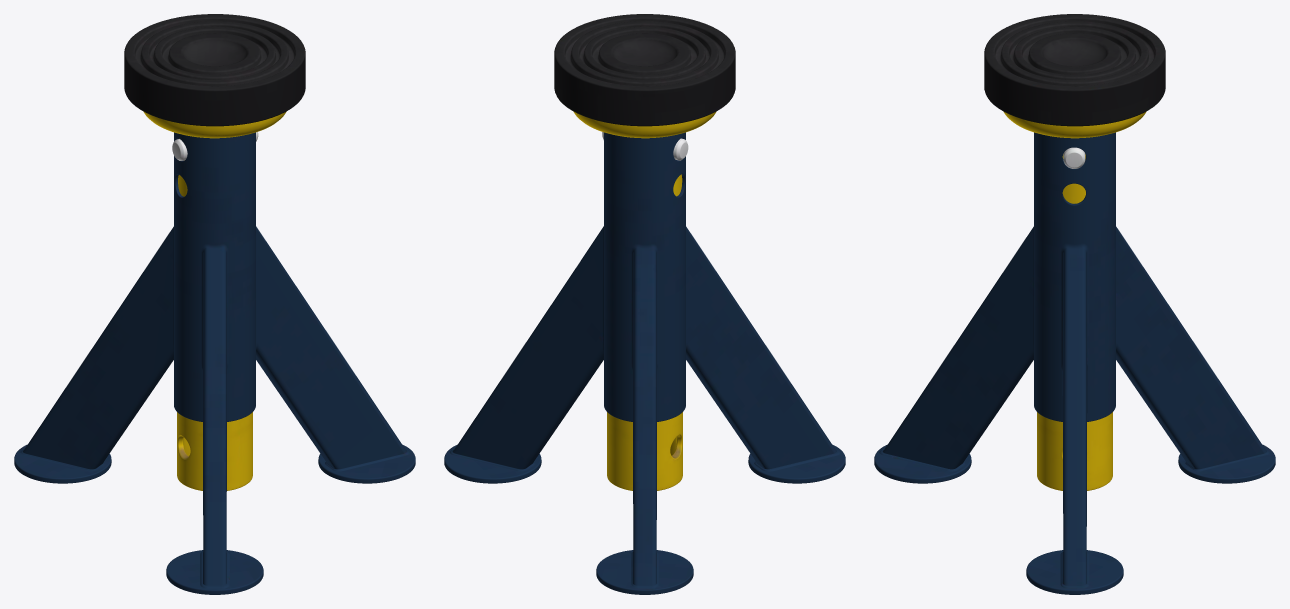
Rendered from vehicleSupport_jack_stand_b01.glb.
The picture shows the model from 3 angles, left to right: view 1: azimuth 30°, elevation 25°; view 2: azimuth 150°, elevation 25°; view 3: azimuth 270°, elevation 25°; orthographic projection.
Parts seen in each view (by area): view 1: jackStand_01_mesh_00; view 2: jackStand_01_mesh_00; view 3: jackStand_01_mesh_00.
Boxes of the visible parts, x1,y1,x2,y2 form: jackStand_01_mesh_00: (14, 14, 415, 594); jackStand_01_mesh_00: (444, 14, 845, 594); jackStand_01_mesh_00: (874, 14, 1275, 594).
Bounding box in the file's own units: 0.2224 × 0.3052 × 0.2475.
Materials: 1 (1 with a texture image).
